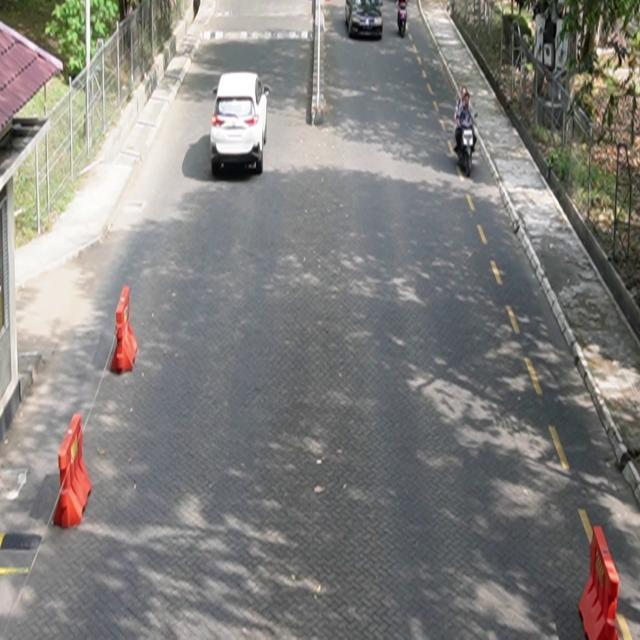car: (211, 72, 272, 177), (346, 1, 384, 41)
